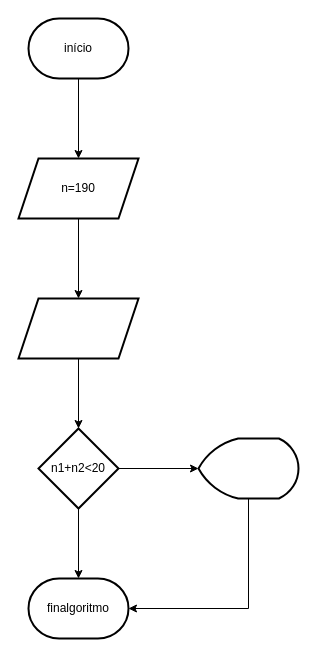
Image size: 316x656. Some labels were removed from this diagram. Each missing label, with the centre of its shape:
n2, n1: the point at 248,468
n2=2: the point at 78,328
